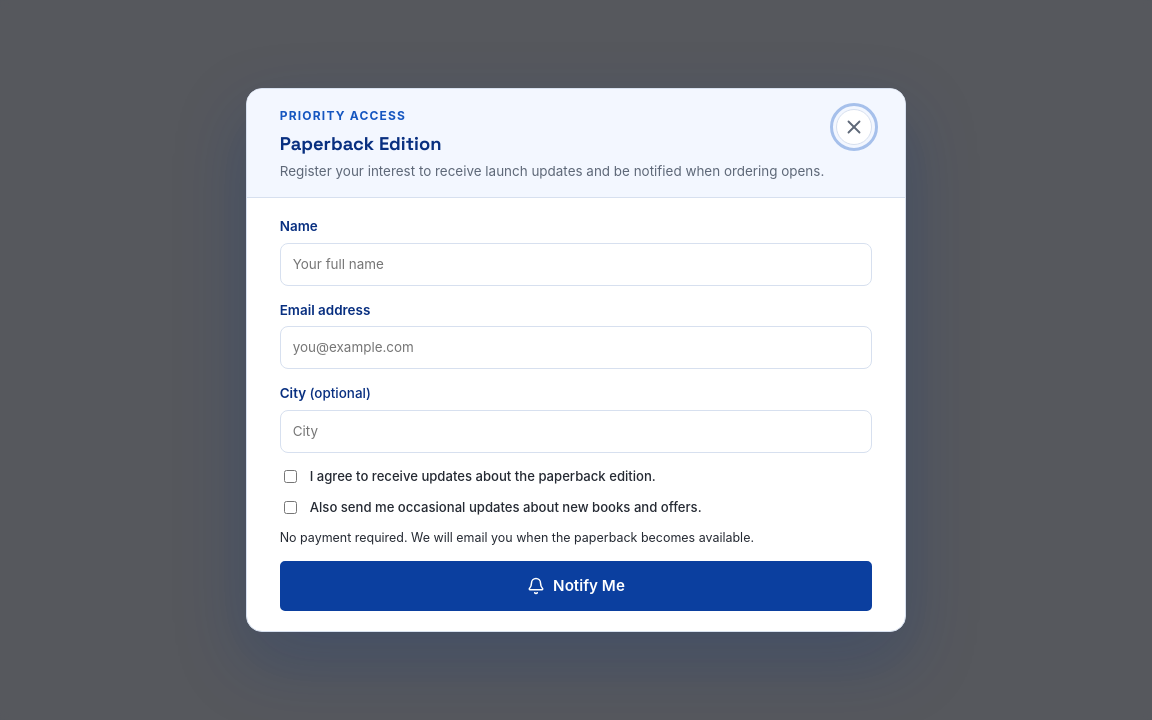
Test case: PaperbackWaitlistDialog › shows field validation errors without submitting
The image size is (1152, 720).
Step 1. Click the button "Notify Me" → click(576, 586), box top-left (280, 561), bottom-right (872, 611)
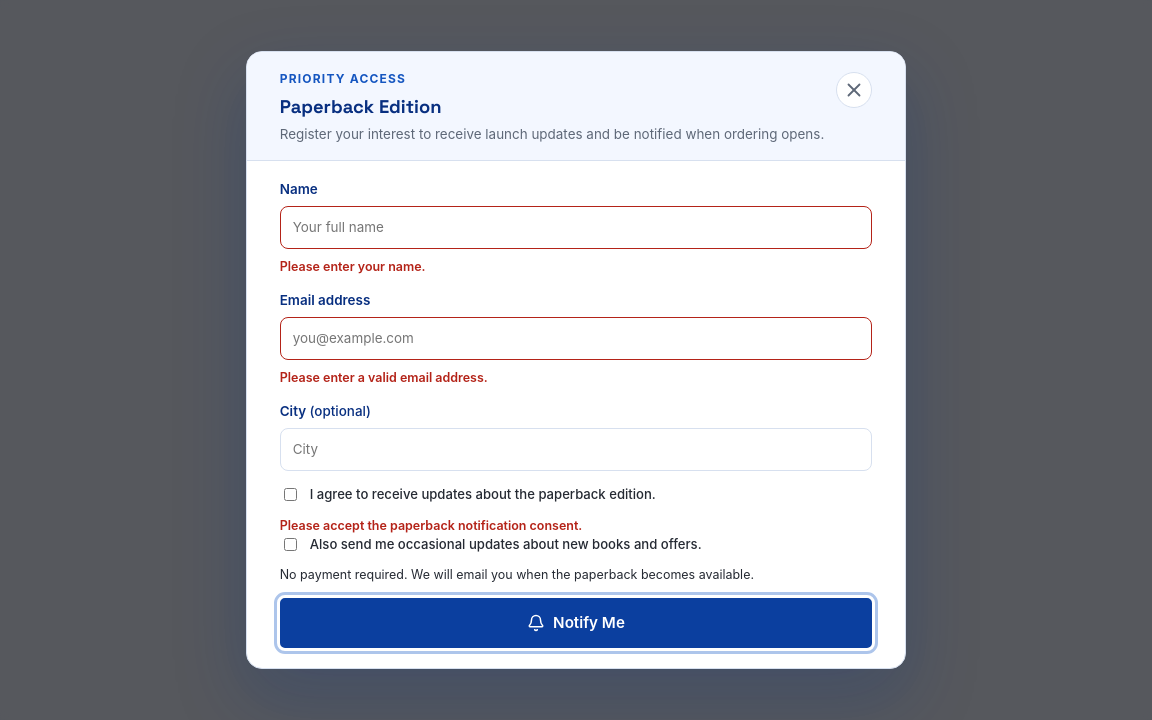
Expected: the text "Please enter your name." is shown, top-left (280, 258), bottom-right (426, 274)
Expected: the text "Please enter a valid email address." is shown, top-left (280, 370), bottom-right (488, 384)
Expected: the text "Please accept the paperback notification consent." is shown, top-left (280, 518), bottom-right (582, 532)
